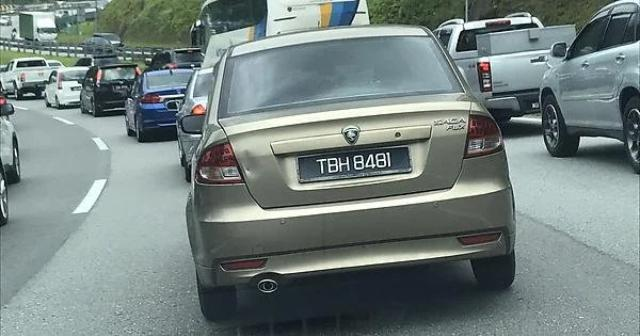License_Plate: (293, 134, 411, 193)
car: (184, 28, 518, 303), (541, 2, 640, 171), (124, 65, 200, 143), (80, 65, 138, 118)
